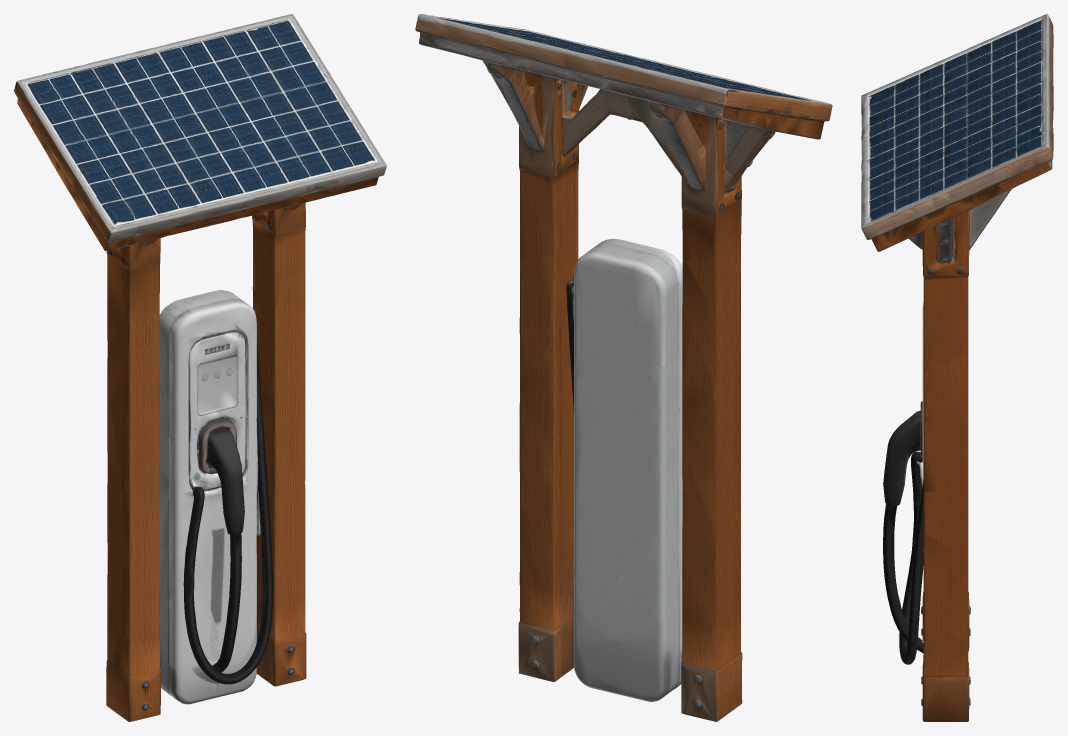
File: evpoint.glb
The picture shows the model from 3 angles, left to right: view 1: azimuth 30°, elevation 25°; view 2: azimuth 150°, elevation 25°; view 3: azimuth 270°, elevation 25°; orthographic projection. The views are drawn at different scales.
Parts seen in each view (by area): view 1: mesh_node; view 2: mesh_node; view 3: mesh_node.
Boxes of the visible parts, x1,y1,x2,y2 form: mesh_node: [14, 14, 386, 721]; mesh_node: [415, 14, 832, 721]; mesh_node: [861, 14, 1053, 721].
Bounding box in the file's own units: 0.9081 × 1.9 × 0.5527.
1 material, 1 textured.
